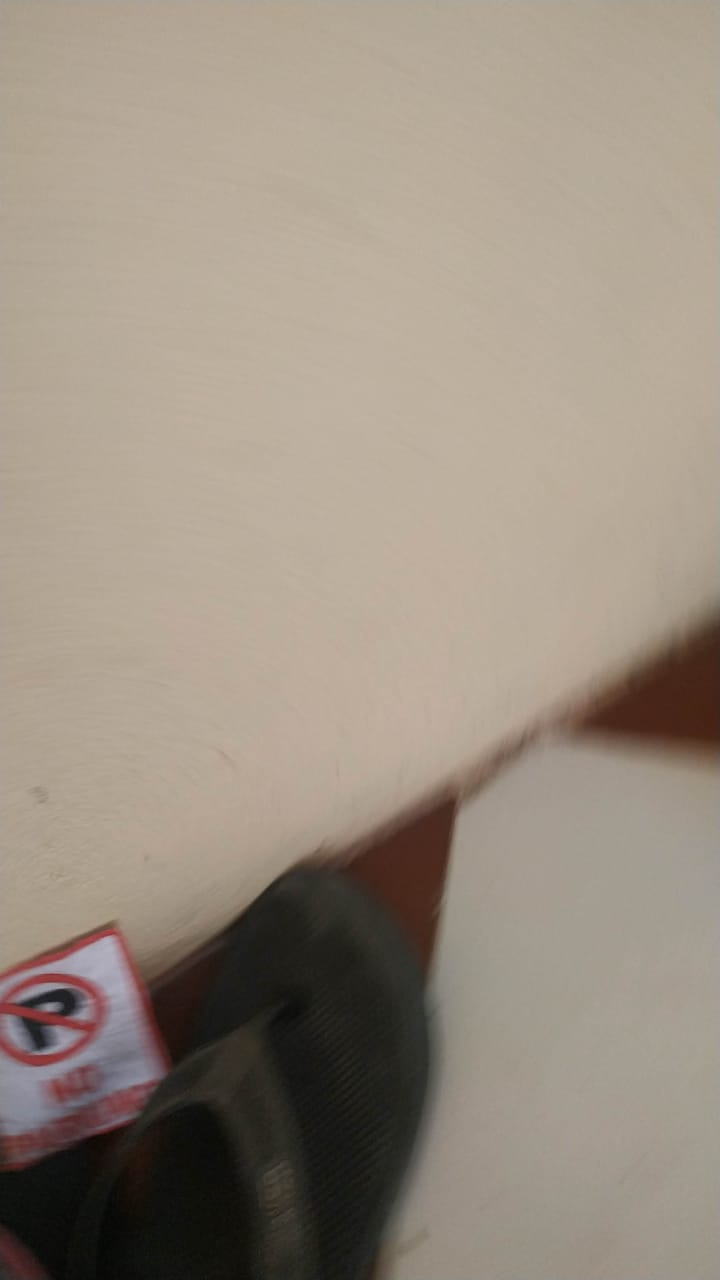NO PARKING: (1, 932, 197, 1165)
